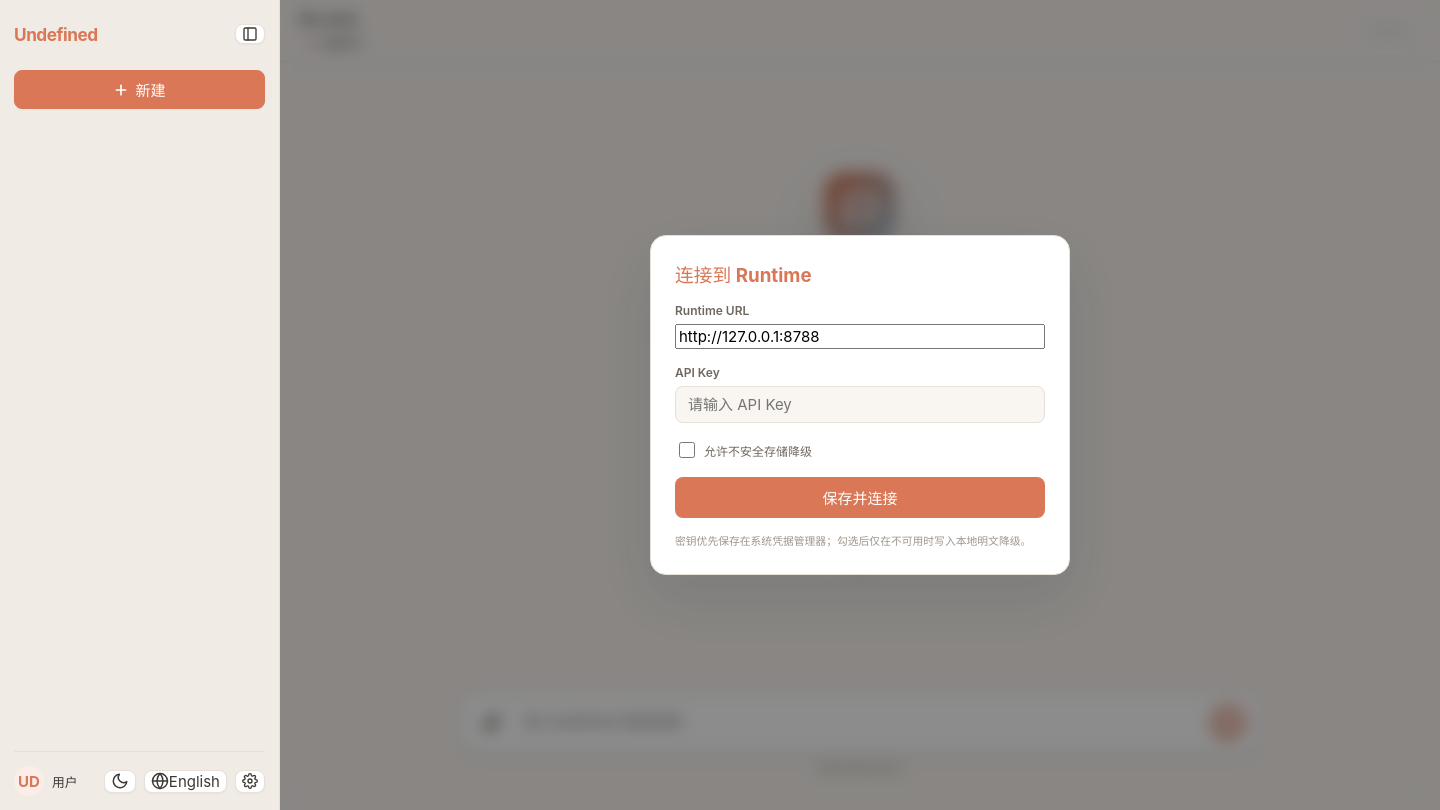
Test case: App › clears a first configuration after key storage fails
This screenshot has width=1440, height=810.
Check: the field labelled "Runtime URL" is shown, box [675,324,1045,349]
Type "B-key" into the password field labelled "API Key" at (860, 405), box [675,386,1045,423]
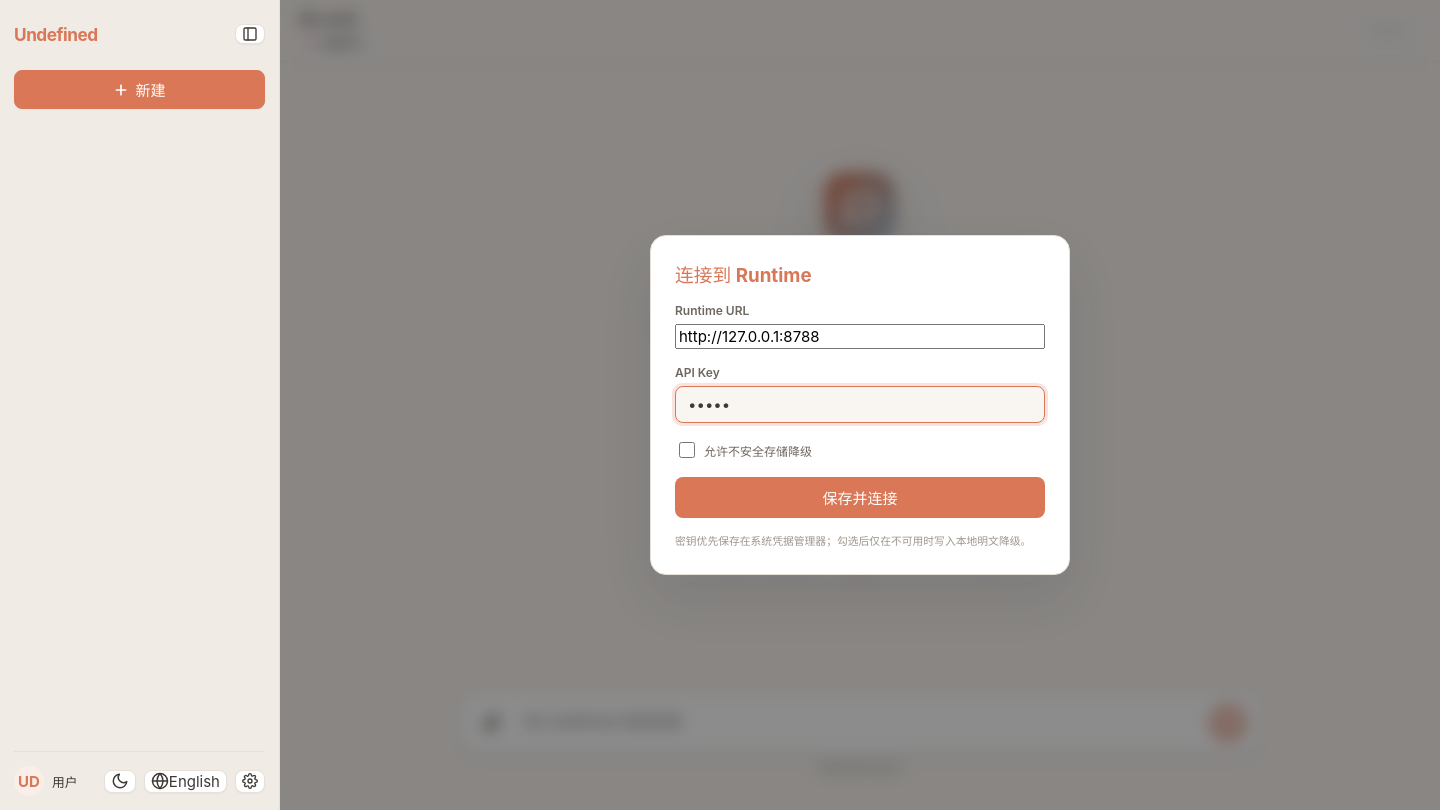
Click the button "保存并连接" at (860, 498), box [675,477,1045,518]
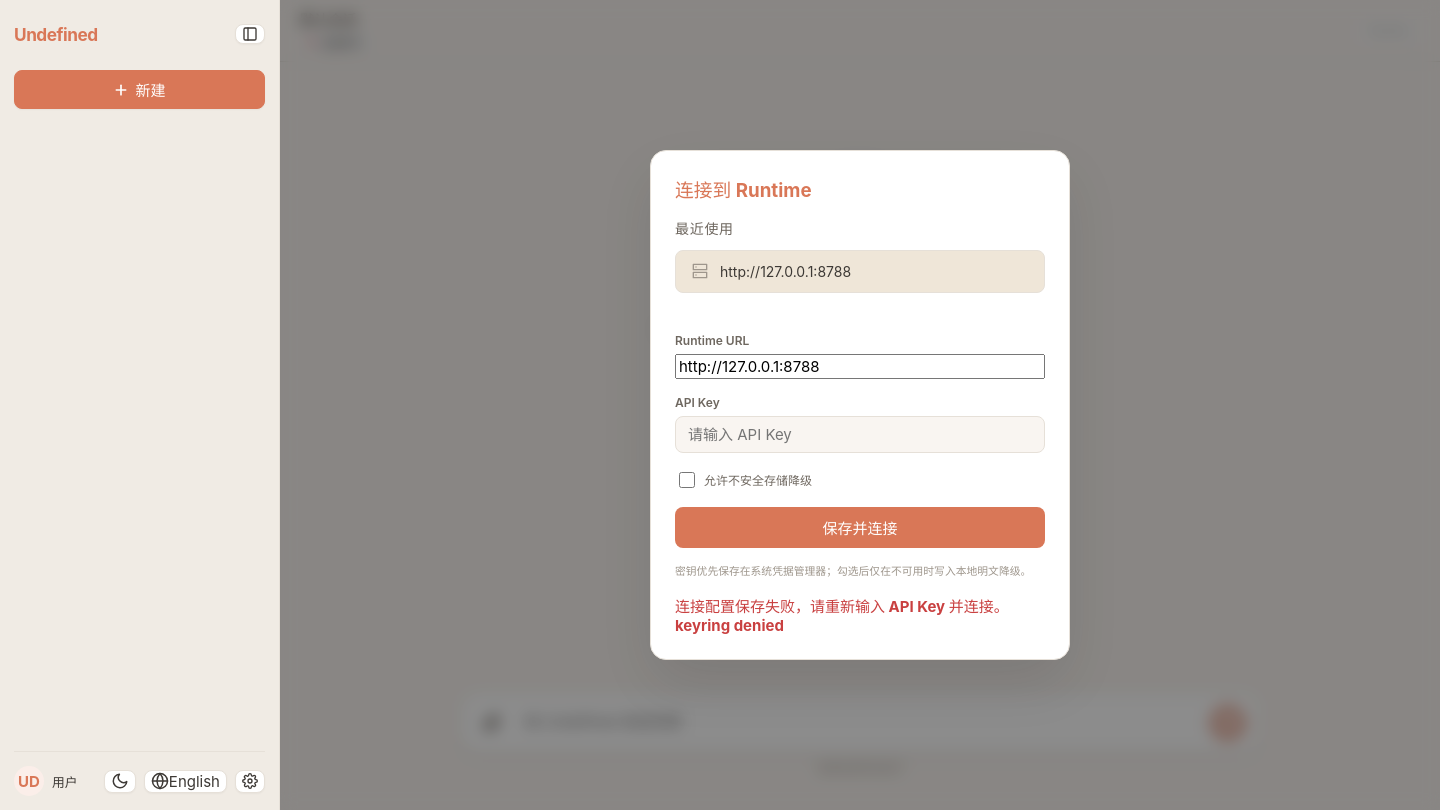
Check: the text "连接配置保存失败，请重新输入 API Key 并连接。keyring denied" is shown, box [675,595,1045,635]
